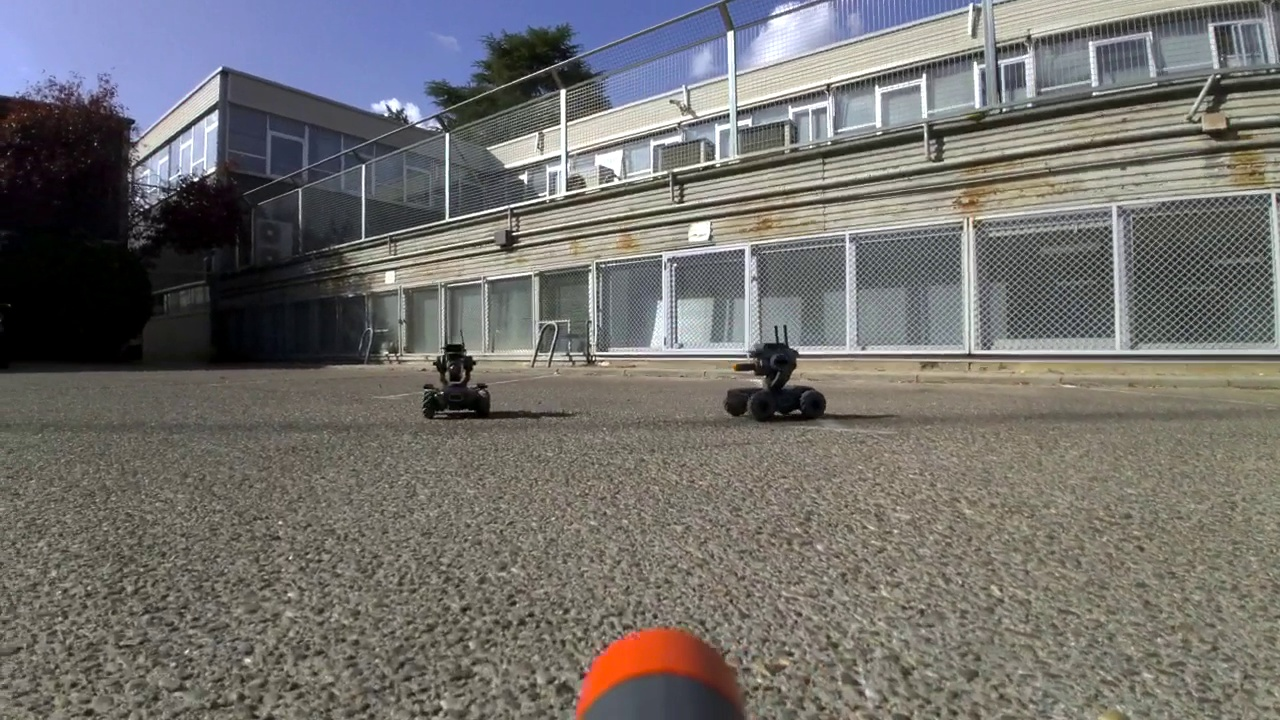robot: (725, 324, 830, 422), (423, 329, 494, 417)
